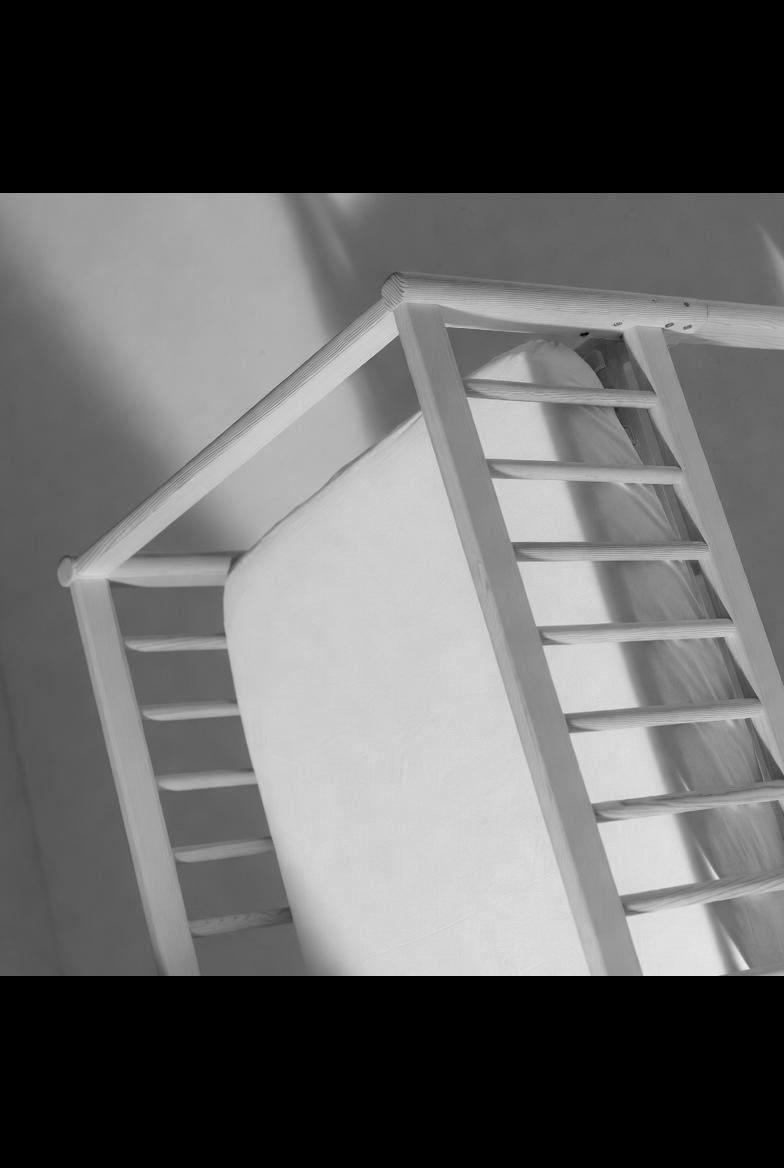crib: (39, 245, 784, 976)
